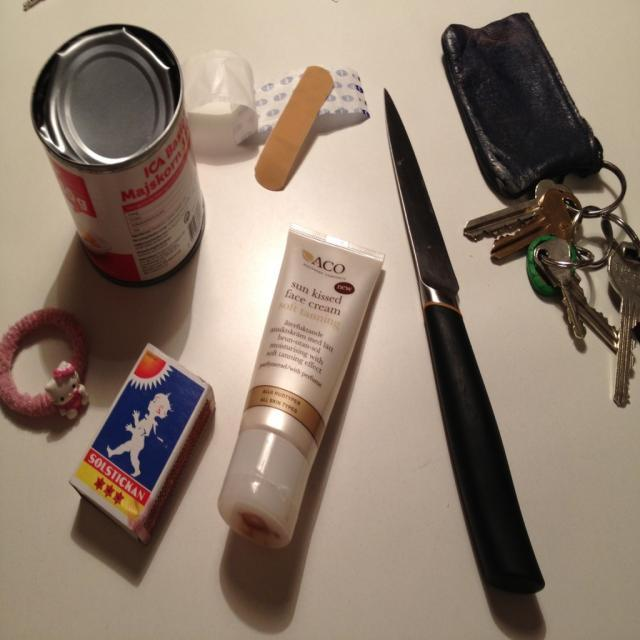Knife: (385, 90, 544, 592)
